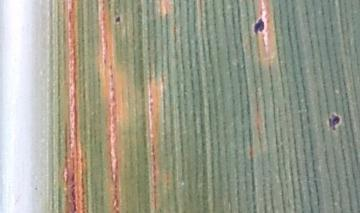tarspot: (326, 112, 341, 132), (252, 16, 265, 36), (113, 15, 121, 25), (32, 185, 39, 192), (145, 46, 151, 53)
